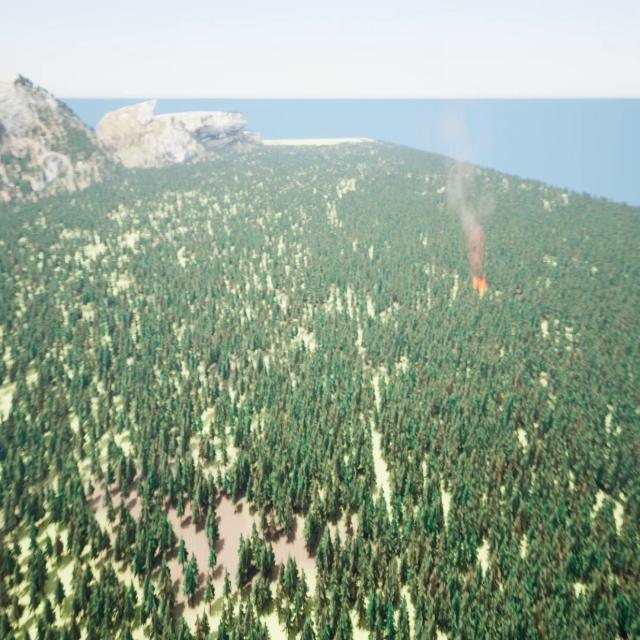fire: (471, 270, 490, 298)
smoke: (433, 115, 492, 270)
